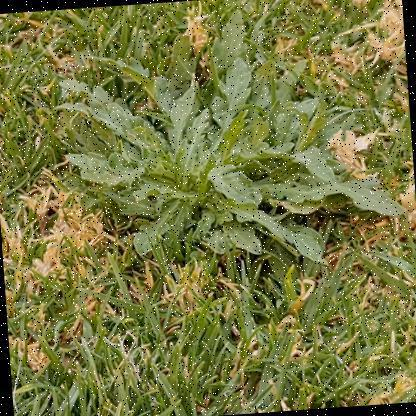Weeds: (44, 2, 409, 285)
